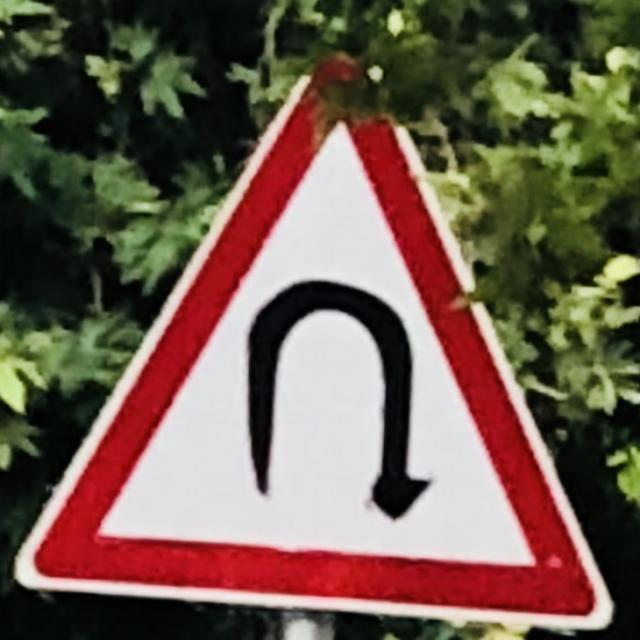u turn: (31, 50, 607, 604)
